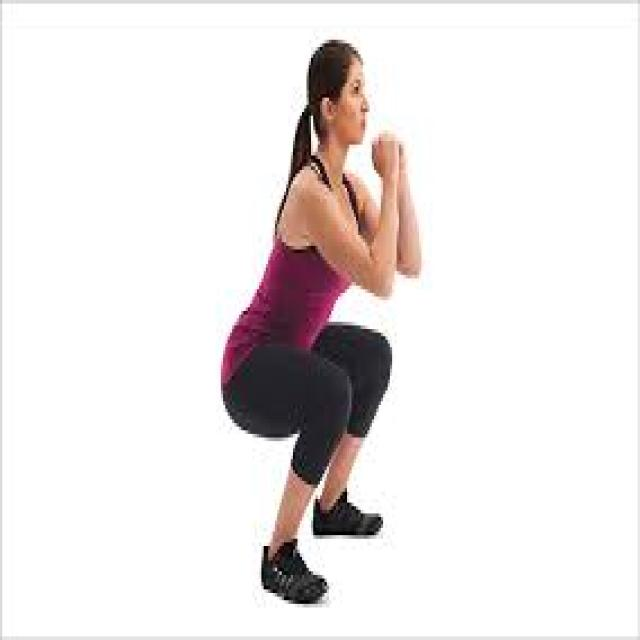squat: (218, 35, 422, 608)
